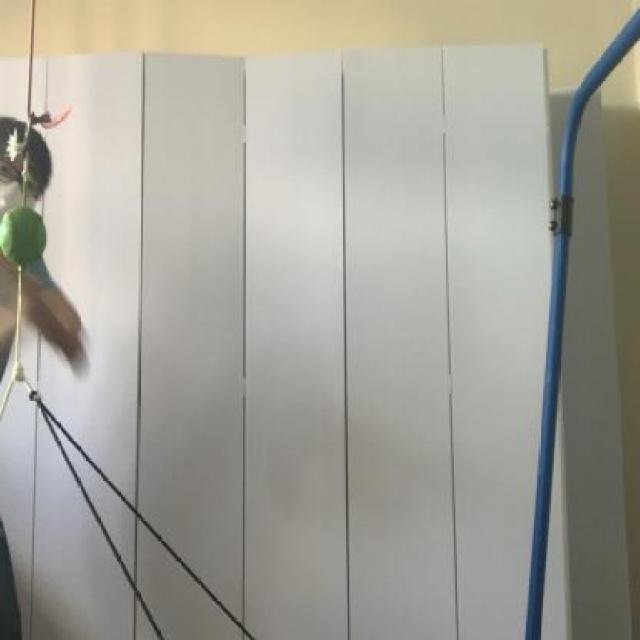baseball: (0, 191, 58, 274)
